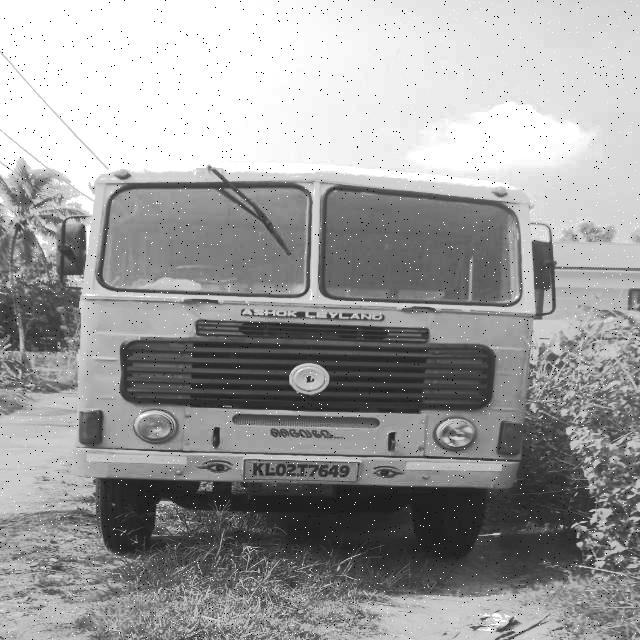HCV: (78, 168, 535, 596)
